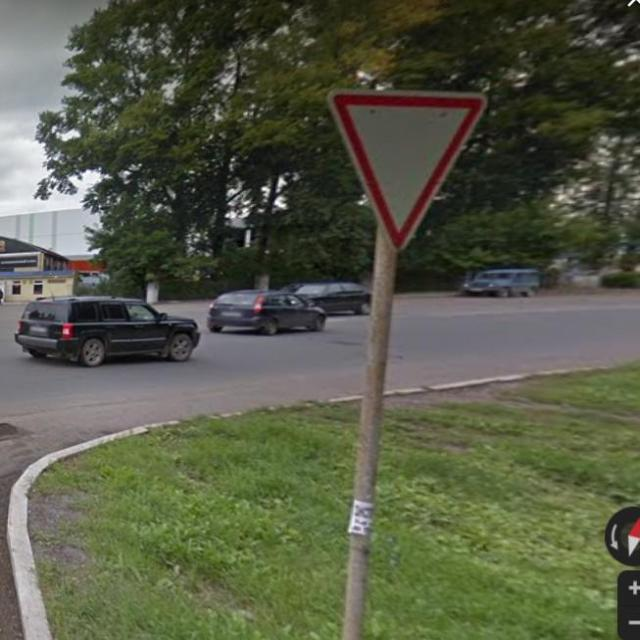Ustap pierwszenstwa: (321, 82, 494, 258)
